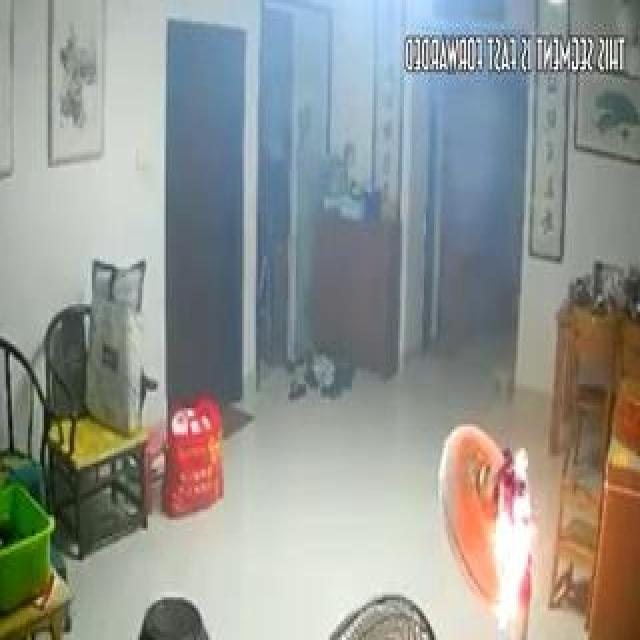Fire: (434, 384, 542, 621)
